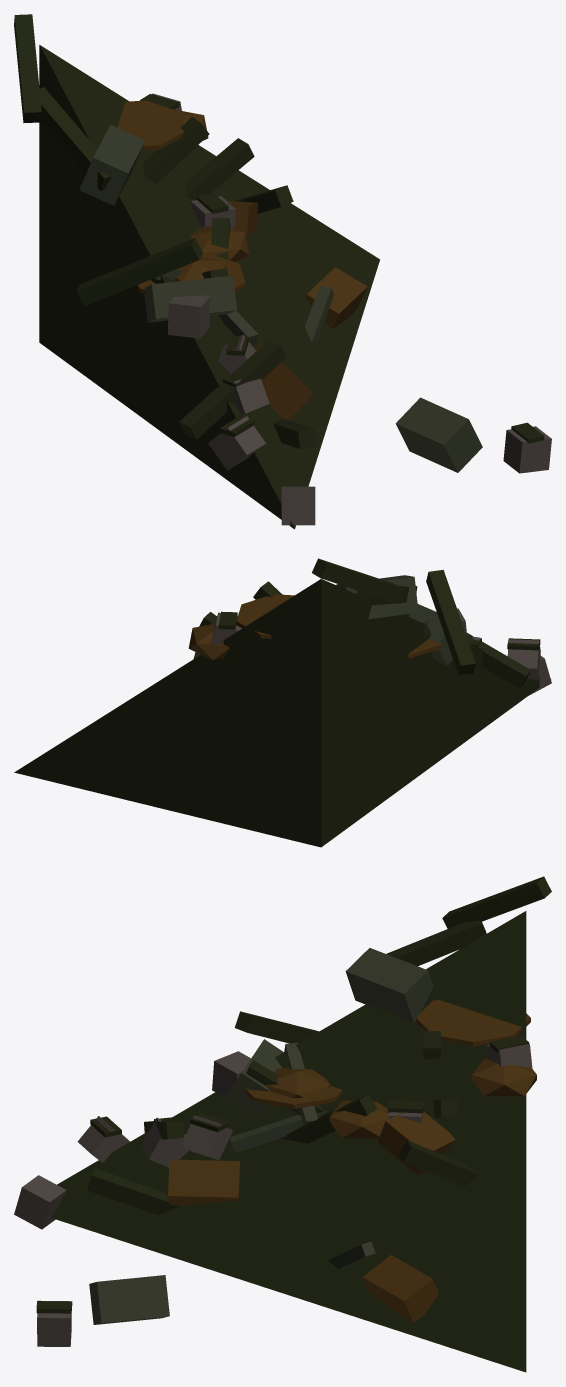
The model's file is SM_PilaZombi_RemateDer_Altura4_s2_LOD0.fbx.
The picture shows the model from 3 angles, top to bottom: view 1: azimuth 30°, elevation 25°; view 2: azimuth 150°, elevation 25°; view 3: azimuth 270°, elevation 25°; orthographic projection. The views are drawn at different scales.
Parts seen in each view (by area): view 1: SM_pila_zombis_v13_LOD0; view 2: SM_pila_zombis_v13_LOD0; view 3: SM_pila_zombis_v13_LOD0.
Boxes of the visible parts, box(x1,y1,x2,y2) form: SM_pila_zombis_v13_LOD0: box(14, 14, 551, 529); SM_pila_zombis_v13_LOD0: box(14, 558, 551, 847); SM_pila_zombis_v13_LOD0: box(14, 876, 551, 1372).
Size of the model in its own units: 2.94 by 2.37 by 3.37.
